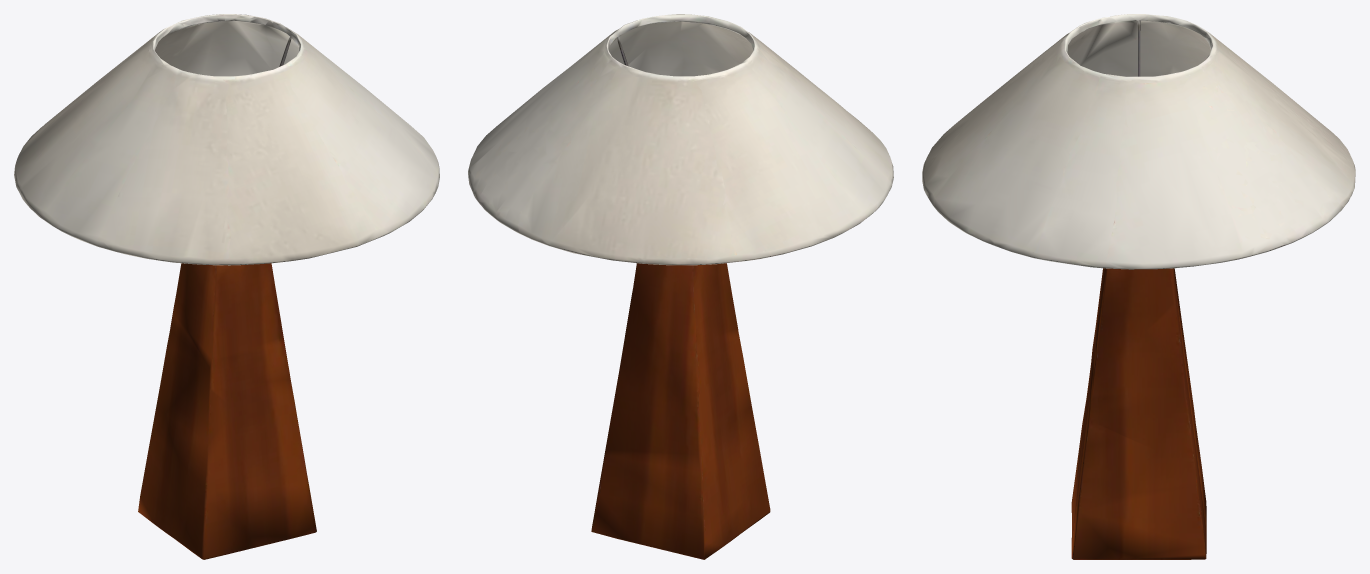
Rendered from fm_table_lamp_wood.glb.
The picture shows the model from 3 angles, left to right: view 1: azimuth 30°, elevation 25°; view 2: azimuth 150°, elevation 25°; view 3: azimuth 270°, elevation 25°; orthographic projection.
Visible parts, largest first — view 1: world; view 2: world; view 3: world.
Boxes of the visible parts, bbox=[...] form: world: bbox=[14, 14, 439, 559]; world: bbox=[468, 14, 893, 559]; world: bbox=[922, 14, 1355, 559].
Size of the model in its own units: 0.4043 by 0.4999 by 0.4035.
Materials: 1 (1 with a texture image).
